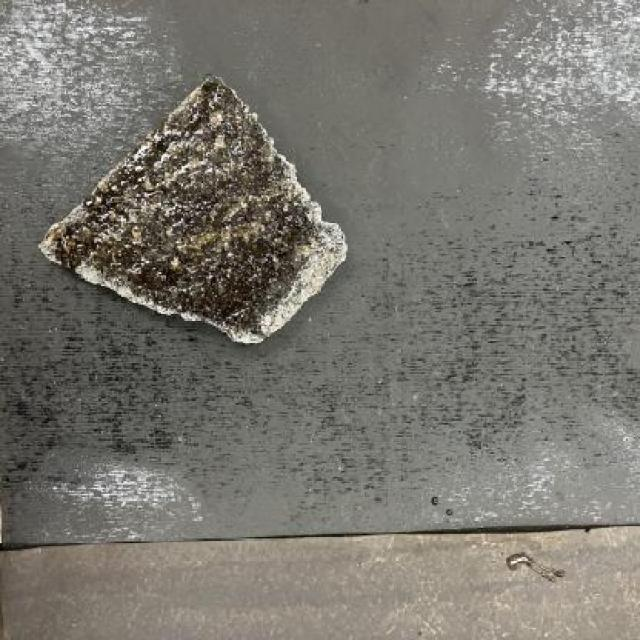Road Debris: (41, 82, 322, 348)
